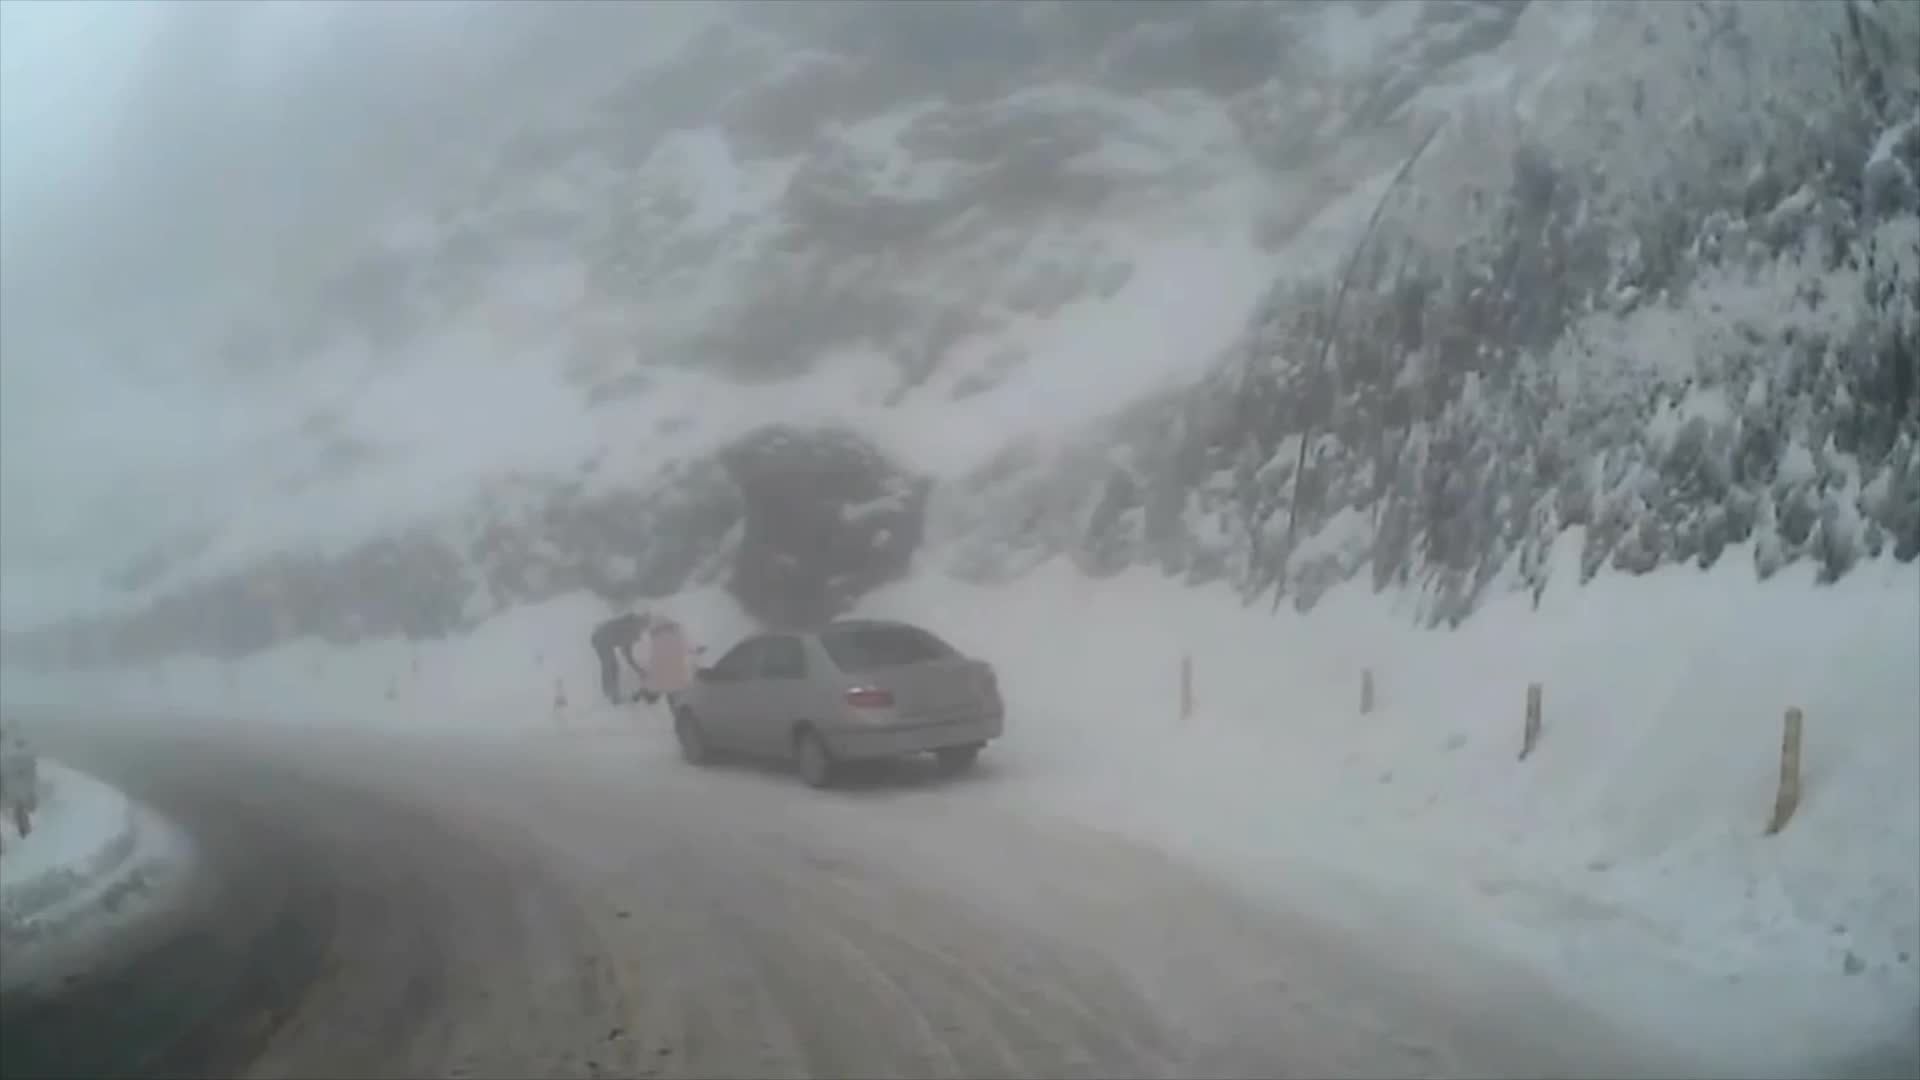pedestrian: (634, 603, 714, 731), (591, 609, 666, 707)
vehicle: (673, 618, 1004, 786)
